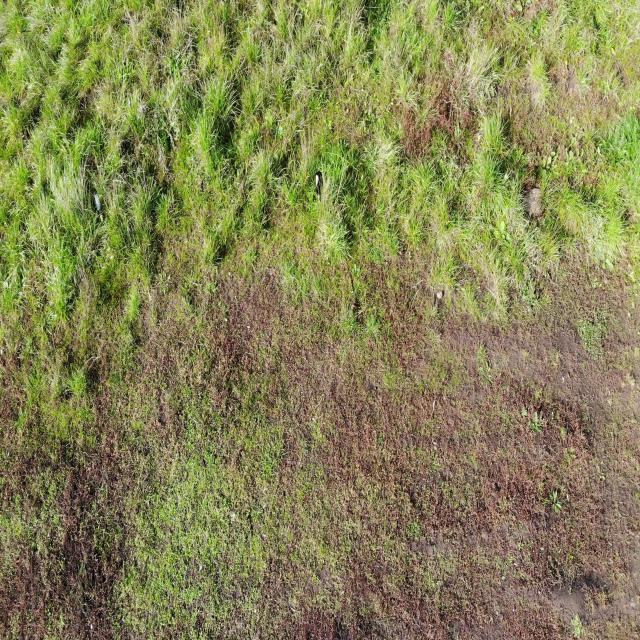rubbish: (92, 192, 104, 228), (316, 171, 322, 206)
